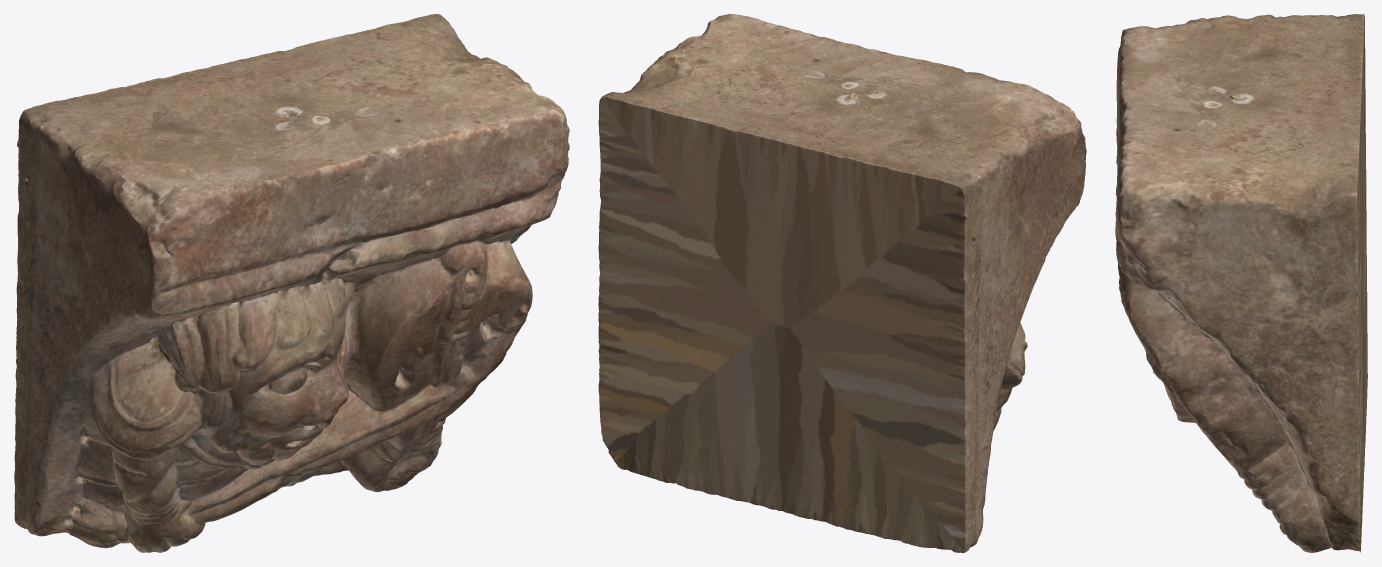
Rendered from preview.glb.
3 renders of one model, left to right at view 1: azimuth 30°, elevation 25°; view 2: azimuth 150°, elevation 25°; view 3: azimuth 270°, elevation 25°, orthographic. The views are drawn at different scales.
Parts seen in each view (by area): view 1: ADVIMG_25_120_602_Corble_n3d; view 2: ADVIMG_25_120_602_Corble_n3d; view 3: ADVIMG_25_120_602_Corble_n3d.
Part boxes in pixels (box(x1,y1,x2,y2)): ADVIMG_25_120_602_Corble_n3d: box(14, 14, 569, 552); ADVIMG_25_120_602_Corble_n3d: box(598, 14, 1086, 552); ADVIMG_25_120_602_Corble_n3d: box(1115, 14, 1367, 552).
Bounding box in the file's own units: 0.16 × 0.1588 × 0.0929.
Materials: 1 (1 with a texture image).
